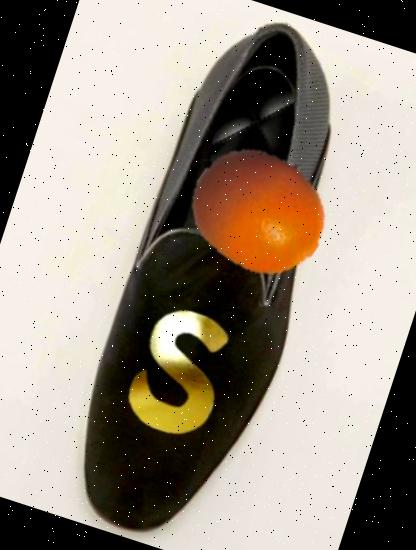Grapefruit: (172, 123, 346, 297)
